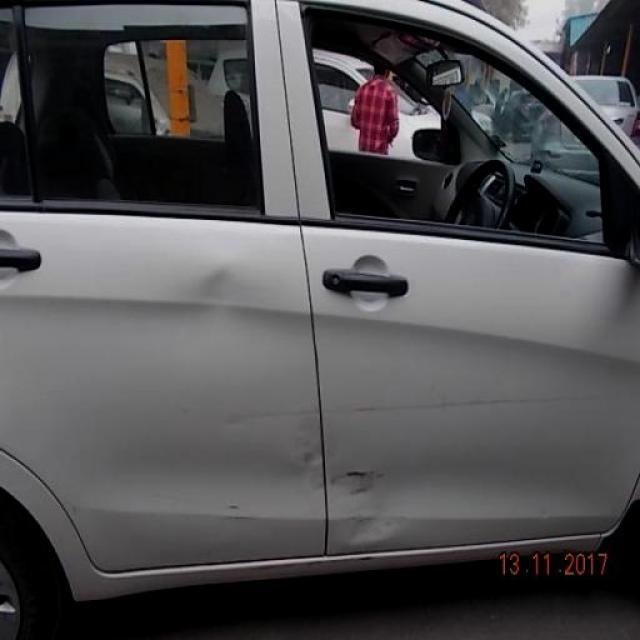car damage: (226, 389, 606, 421), (196, 264, 247, 332), (349, 507, 411, 546), (317, 466, 385, 498), (295, 424, 323, 469), (226, 499, 252, 523)
